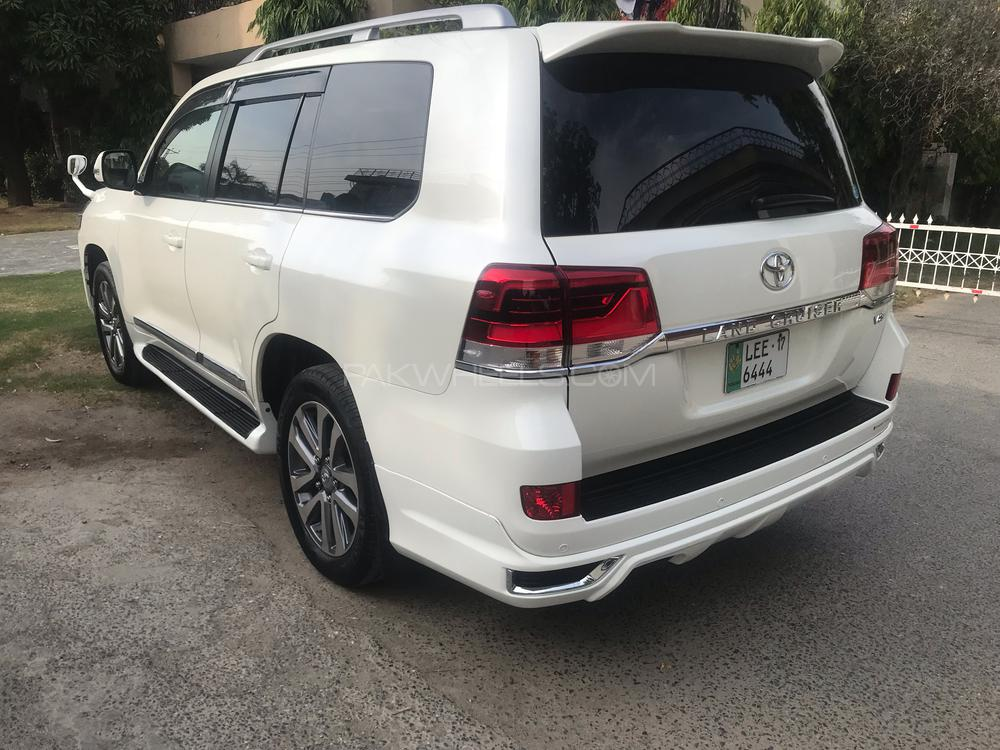license plate: (723, 336, 792, 383)
